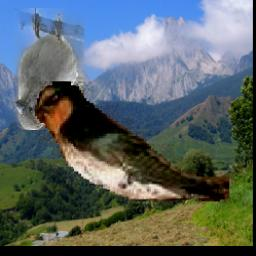Sparrow: (14, 9, 85, 131)
Swallow: (36, 82, 230, 204)
